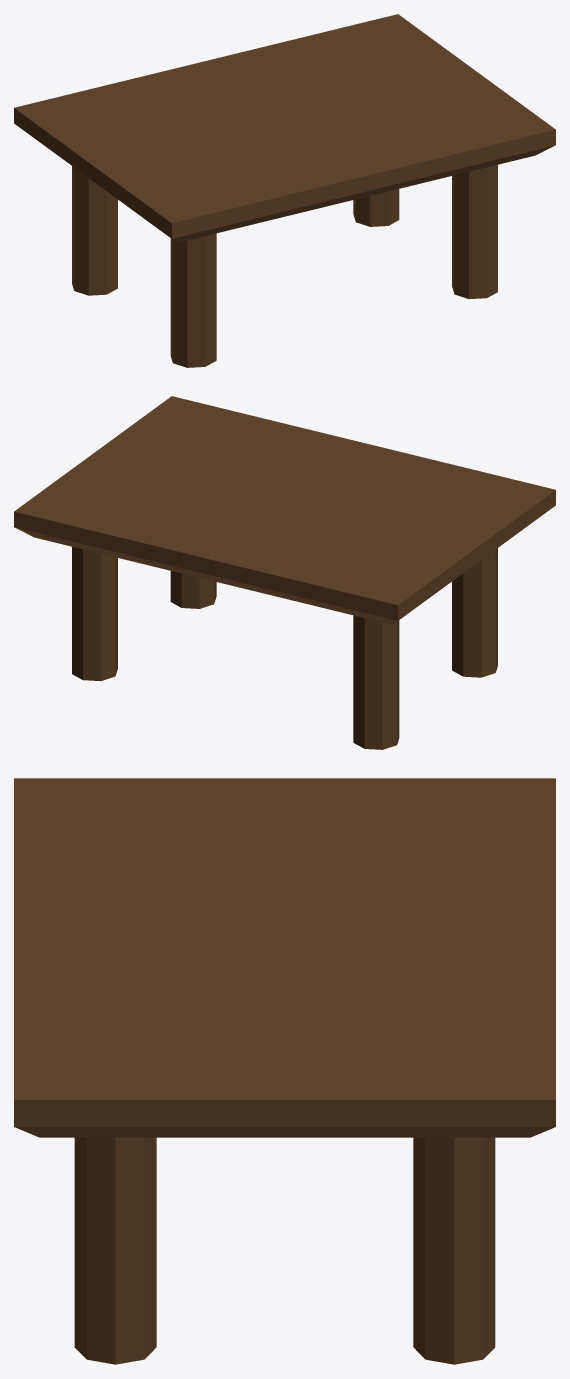
The model's file is table4.fbx.
3 renders of one model, top to bottom at view 1: azimuth 30°, elevation 25°; view 2: azimuth 150°, elevation 25°; view 3: azimuth 270°, elevation 25°, orthographic. The views are drawn at different scales.
Parts seen in each view (by area): view 1: Cube.001; view 2: Cube.001; view 3: Cube.001.
Boxes of the visible parts, x1,y1,x2,y2 form: Cube.001: [14, 14, 555, 367]; Cube.001: [14, 396, 555, 749]; Cube.001: [14, 778, 555, 1364].
Size of the model in its own units: 8.5 by 3.57 by 6.05.
